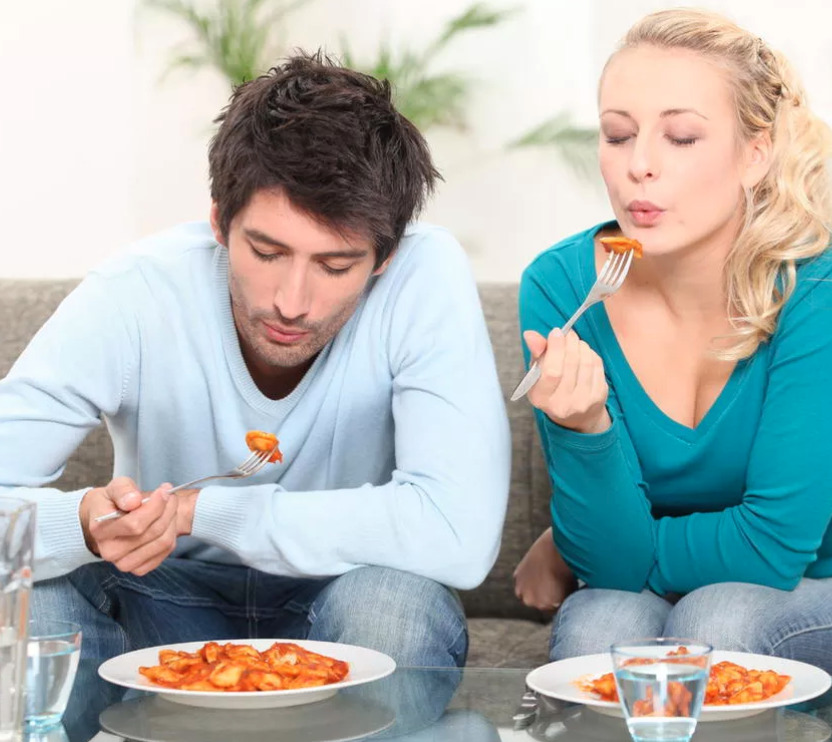Bad: (1, 8, 832, 638)
